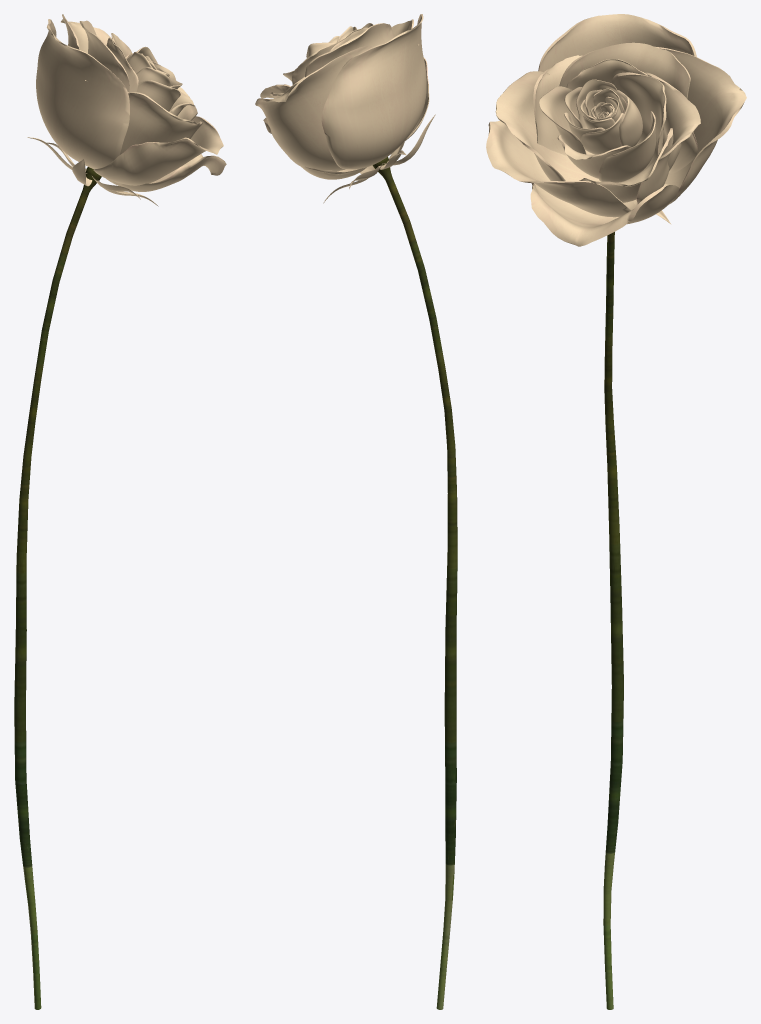
The model's file is ROSE.glb.
3 renders of one model, left to right at view 1: azimuth 30°, elevation 25°; view 2: azimuth 150°, elevation 25°; view 3: azimuth 270°, elevation 25°, orthographic. The views are drawn at different scales.
Parts seen in each view (by area): view 1: Subdivision_Surface.037, animatebeige, Subdivision_Surface.038, Subdivision_Surface.031, Subdivision_Surface.076, Subdivision_Surface.034, Subdivision_Surface.027, Subdivision_Surface.036, Subdivision_Surface.026; view 2: Subdivision_Surface.037, animatebeige, Subdivision_Surface.036, Subdivision_Surface.034, Subdivision_Surface.076; view 3: animatebeige, Subdivision_Surface.036, Subdivision_Surface.038, Subdivision_Surface.037, Subdivision_Surface.076, Subdivision_Surface.034, Subdivision_Surface.031, Subdivision_Surface.033, Subdivision_Surface.030, Subdivision_Surface.029, Subdivision_Surface.035, Subdivision_Surface.027 (+6 smaller).
Part boxes in pixels (<box>): Subdivision_Surface.037: <box>36,19,129,169</box>; animatebeige: <box>14,167,101,1009</box>; Subdivision_Surface.038: <box>93,116,223,185</box>; Subdivision_Surface.031: <box>120,92,202,154</box>; Subdivision_Surface.076: <box>106,154,226,191</box>; Subdivision_Surface.034: <box>79,20,129,92</box>; Subdivision_Surface.027: <box>136,80,180,111</box>; Subdivision_Surface.036: <box>61,14,111,52</box>; Subdivision_Surface.026: <box>106,37,138,92</box>; Subdivision_Surface.037: <box>321,14,426,169</box>; animatebeige: <box>372,157,457,1009</box>; Subdivision_Surface.036: <box>255,46,372,171</box>; Subdivision_Surface.034: <box>305,23,394,77</box>; Subdivision_Surface.076: <box>263,118,366,179</box>; animatebeige: <box>603,232,623,1009</box>; Subdivision_Surface.036: <box>654,46,746,204</box>; Subdivision_Surface.038: <box>486,121,635,217</box>; Subdivision_Surface.037: <box>538,14,696,71</box>; Subdivision_Surface.076: <box>530,183,679,246</box>; Subdivision_Surface.034: <box>559,42,697,175</box>; Subdivision_Surface.031: <box>495,71,600,181</box>; Subdivision_Surface.033: <box>633,72,700,205</box>; Subdivision_Surface.030: <box>611,72,666,169</box>; Subdivision_Surface.029: <box>598,111,656,182</box>; Subdivision_Surface.035: <box>533,55,582,155</box>; Subdivision_Surface.027: <box>539,86,594,154</box>.
Size of the model in its own units: 27.45 by 140 by 32.83.
2 materials, 2 textured.
